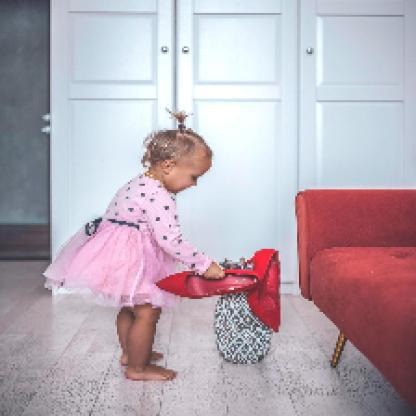child: (41, 110, 229, 383)
